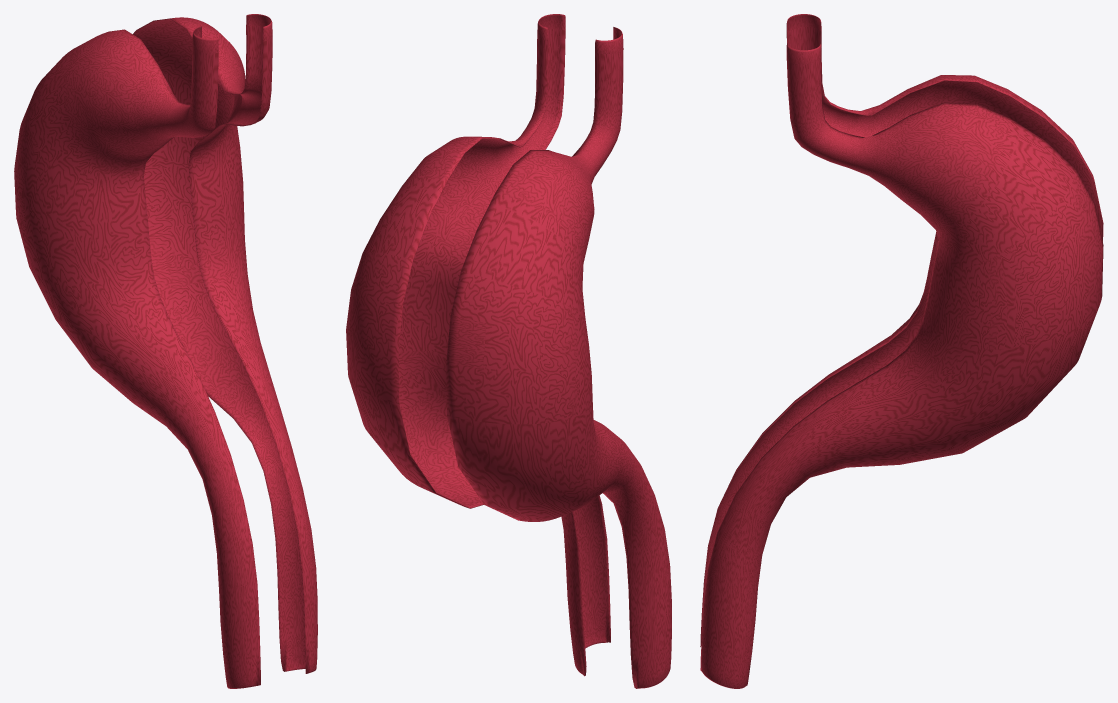
Rendered from Stomach22012021.fbx.
The picture shows the model from 3 angles, left to right: view 1: azimuth 30°, elevation 25°; view 2: azimuth 150°, elevation 25°; view 3: azimuth 270°, elevation 25°; orthographic projection. The views are drawn at different scales.
Visible parts, largest first — view 1: Stomach_Body.002, Stomach_Body; view 2: Stomach_Body.002, Stomach_Body; view 3: Stomach_Body, Stomach_Body.002.
Part boxes in pixels (x1,y1,x2,y2): Stomach_Body.002: (14,26,260,688); Stomach_Body: (133,14,317,673); Stomach_Body.002: (446,27,671,688); Stomach_Body: (346,14,610,676); Stomach_Body: (700,43,1103,688); Stomach_Body.002: (700,14,1103,646).
Size of the model in its own units: 3605 by 10481 by 5968.
